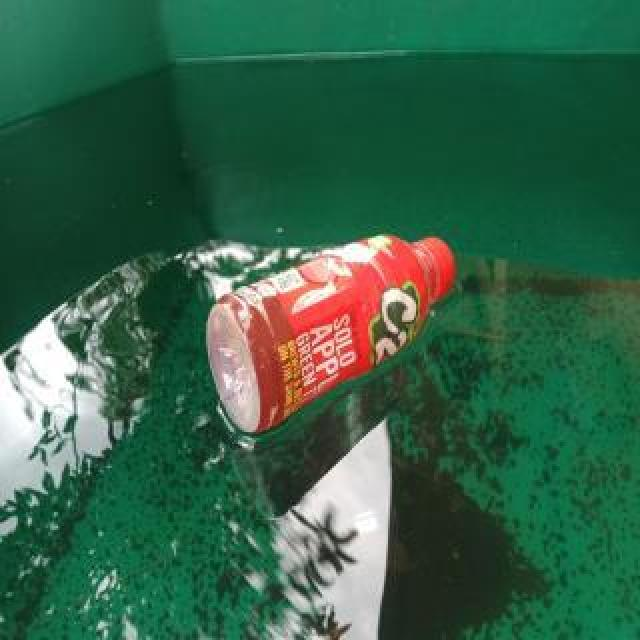bottle: (206, 233, 458, 439)
